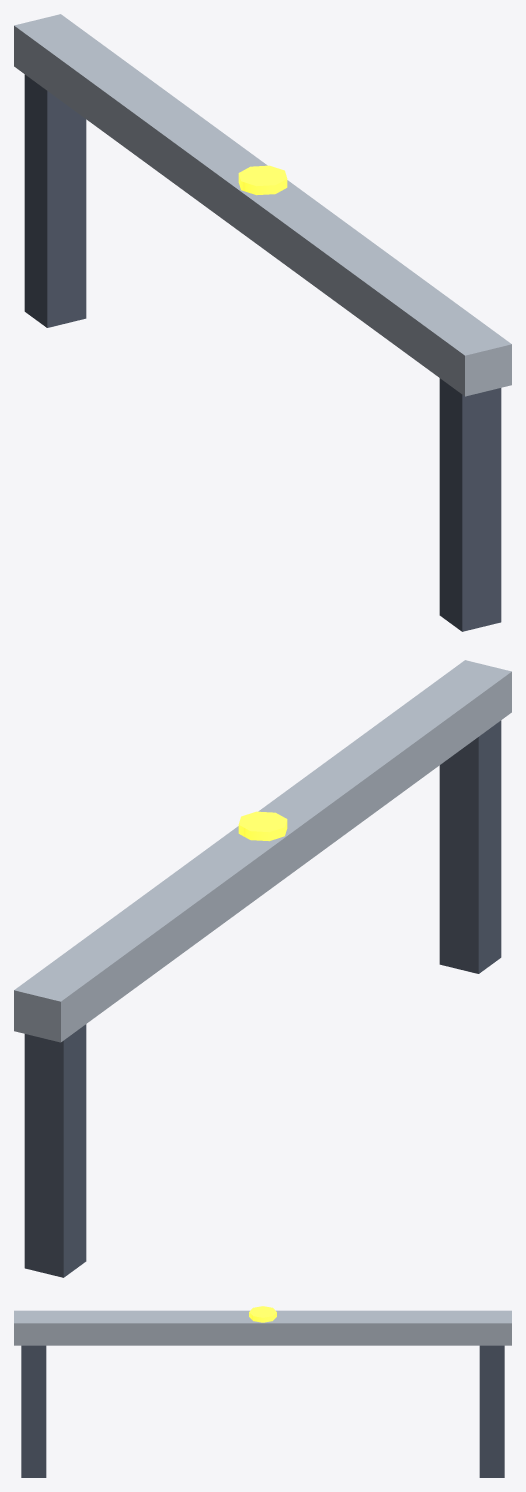
File: tower_nova_rate_s2.glb
The picture shows the model from 3 angles, top to bottom: view 1: azimuth 30°, elevation 25°; view 2: azimuth 150°, elevation 25°; view 3: azimuth 270°, elevation 25°; orthographic projection. The views are drawn at different scales.
Parts seen in each view (by area): view 1: nova_hoist_rail, nova_hoist_rail_post-0.46, nova_hoist_rail_post0.46, nova_up_rate_l2_stud; view 2: nova_hoist_rail, nova_hoist_rail_post0.46, nova_hoist_rail_post-0.46, nova_up_rate_l2_stud; view 3: nova_hoist_rail, nova_hoist_rail_post-0.46, nova_hoist_rail_post0.46, nova_up_rate_l2_stud.
Boxes of the visible parts, x1,y1,x2,y2 form: nova_hoist_rail: [14, 14, 511, 396]; nova_hoist_rail_post-0.46: [439, 378, 501, 631]; nova_hoist_rail_post0.46: [24, 74, 86, 327]; nova_up_rate_l2_stud: [238, 165, 287, 195]; nova_hoist_rail: [14, 660, 511, 1042]; nova_hoist_rail_post0.46: [24, 1024, 86, 1277]; nova_hoist_rail_post-0.46: [439, 720, 501, 973]; nova_up_rate_l2_stud: [238, 811, 287, 841]; nova_hoist_rail: [14, 1310, 511, 1345]; nova_hoist_rail_post-0.46: [21, 1345, 46, 1477]; nova_hoist_rail_post0.46: [479, 1345, 504, 1477]; nova_up_rate_l2_stud: [249, 1306, 276, 1322].
Bounding box in the file's own units: 0.06 × 0.356 × 1.
